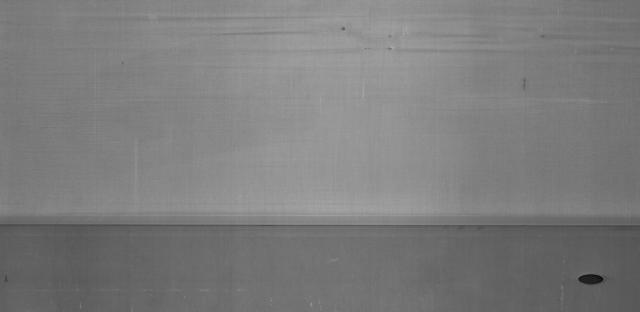punching_hole: (574, 267, 614, 292)
welding_line: (3, 213, 640, 244)
